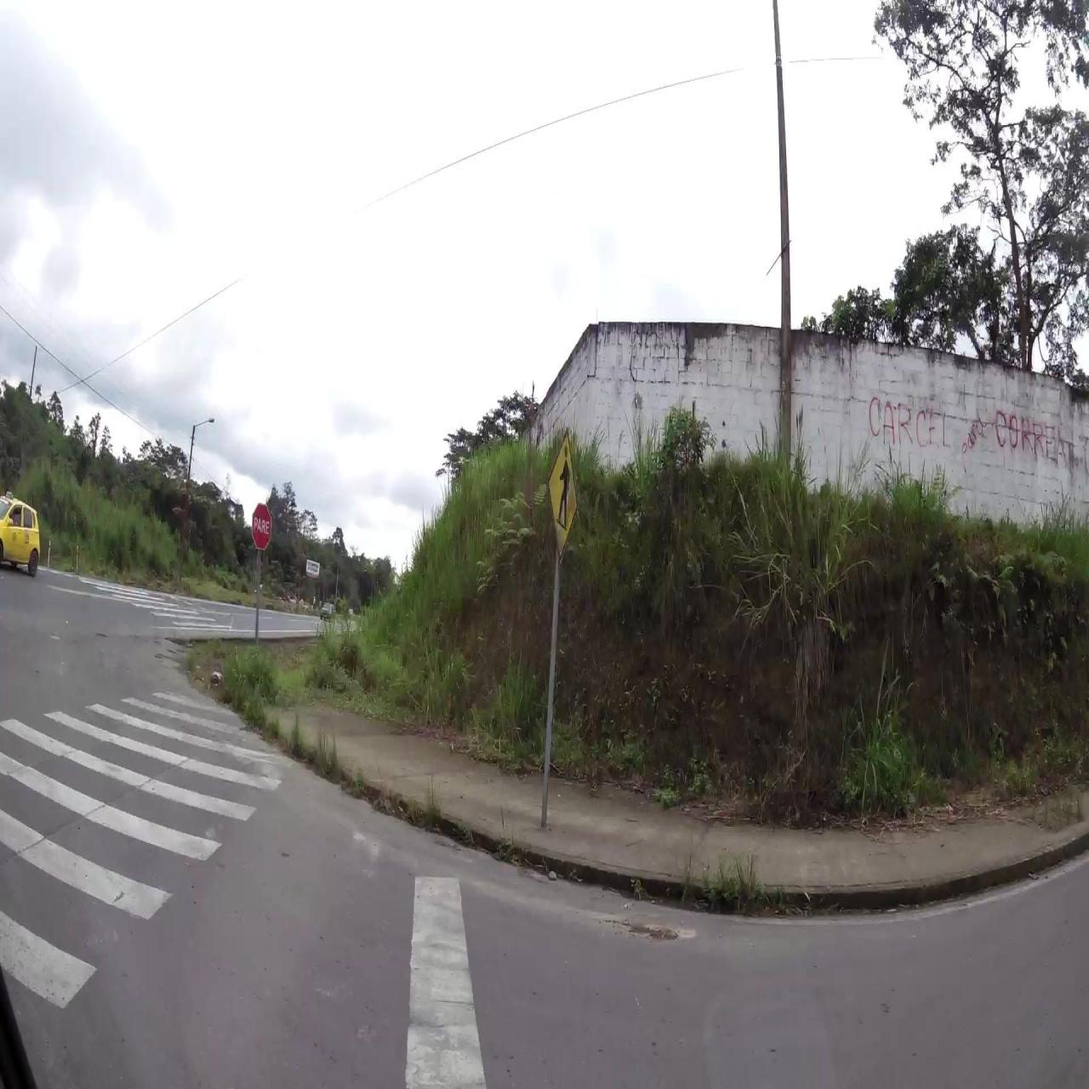no_entry_sign: (545, 430, 579, 556)
